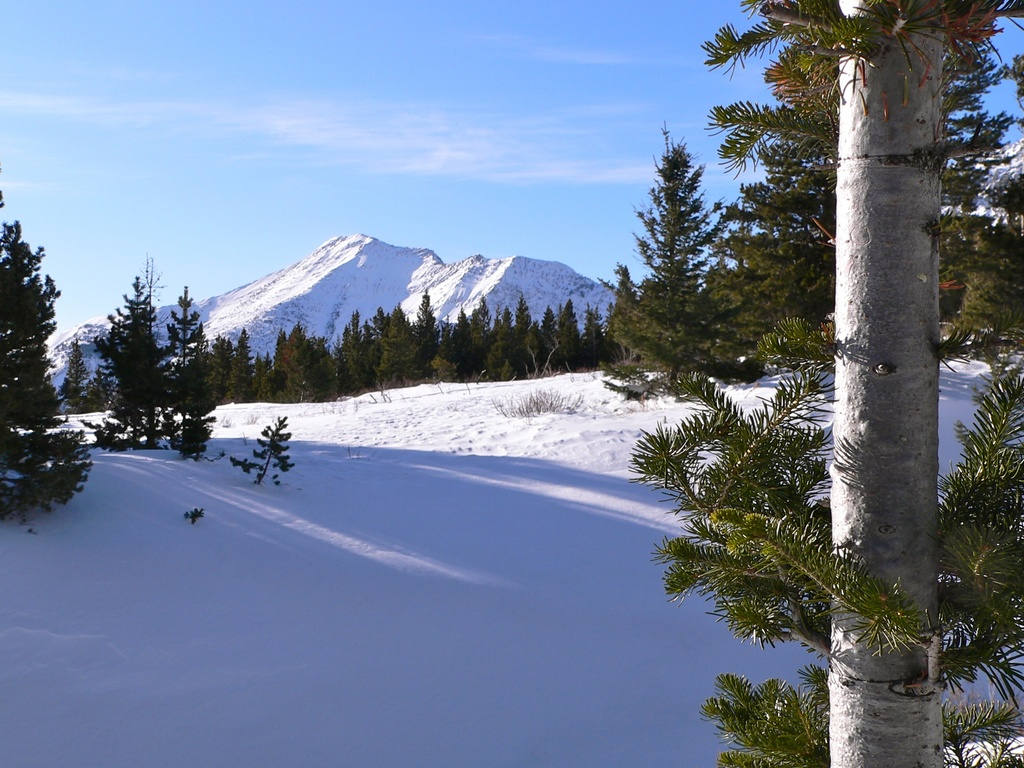Tree: (673, 359, 1022, 767), (698, 0, 1023, 357), (619, 119, 738, 397), (0, 228, 85, 531), (96, 273, 171, 464), (171, 293, 217, 478), (392, 291, 454, 378), (508, 284, 561, 374), (270, 325, 326, 404), (336, 311, 384, 394), (461, 298, 504, 376), (217, 336, 254, 410), (572, 302, 609, 362)
